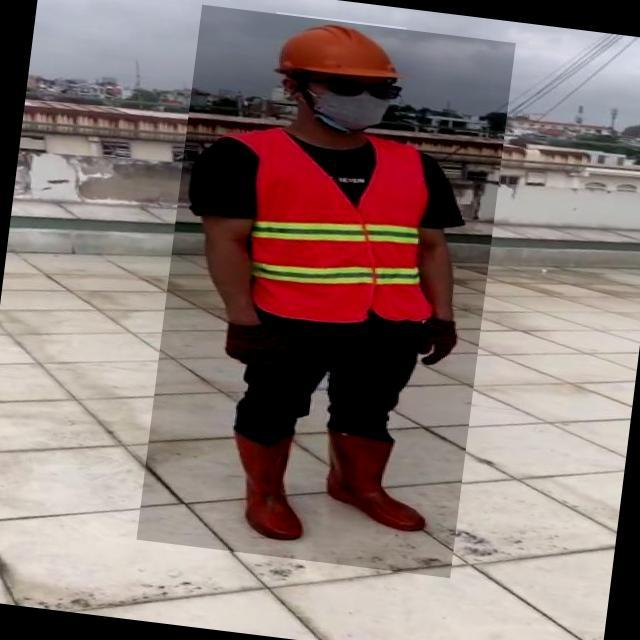Gloves: (217, 322, 292, 376), (416, 320, 458, 373)
Helmet: (269, 11, 408, 93)
Human: (136, 5, 515, 579)
Safety Boot: (312, 427, 437, 536), (222, 433, 312, 545)
Safety Vest: (228, 124, 448, 335)
